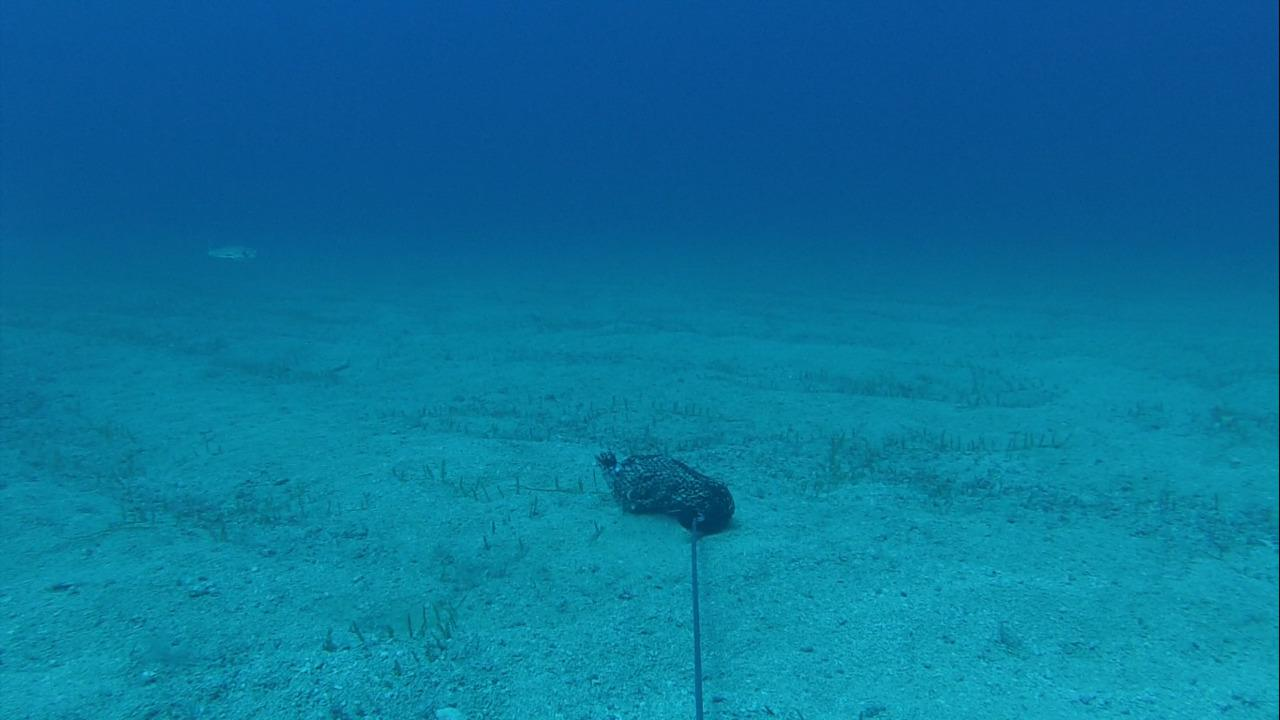dactylopterus: (197, 234, 270, 270)
